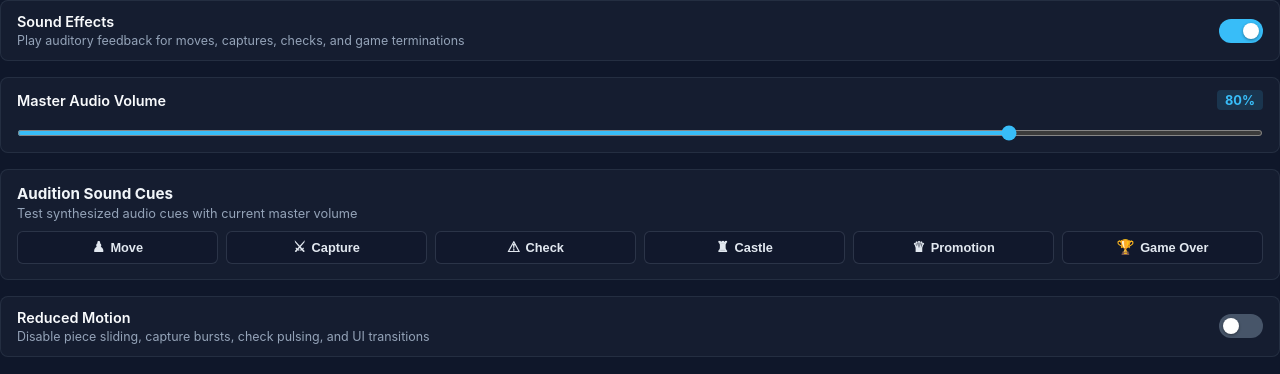
Scenario: Audio & Motion Settings UI Component Tests (TC-SET-01 to TC-SET-04) › TC-SET-01: Toggling Sound Effects switch updates state and soundService
Click the switch with test id "switch-sound": (1241, 31) [1219,19,1263,43]
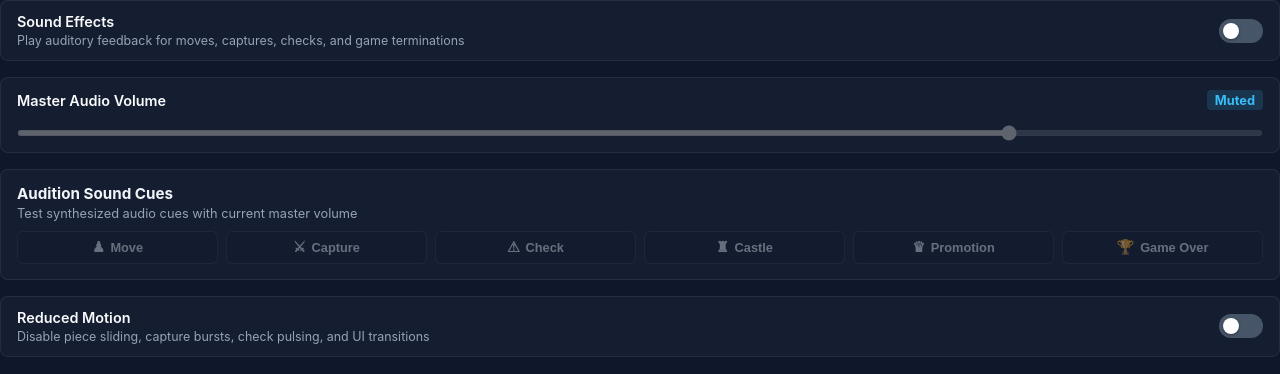
Expected: the text with test id "volume-value-badge" reads "Muted", [1215,93,1255,108]
